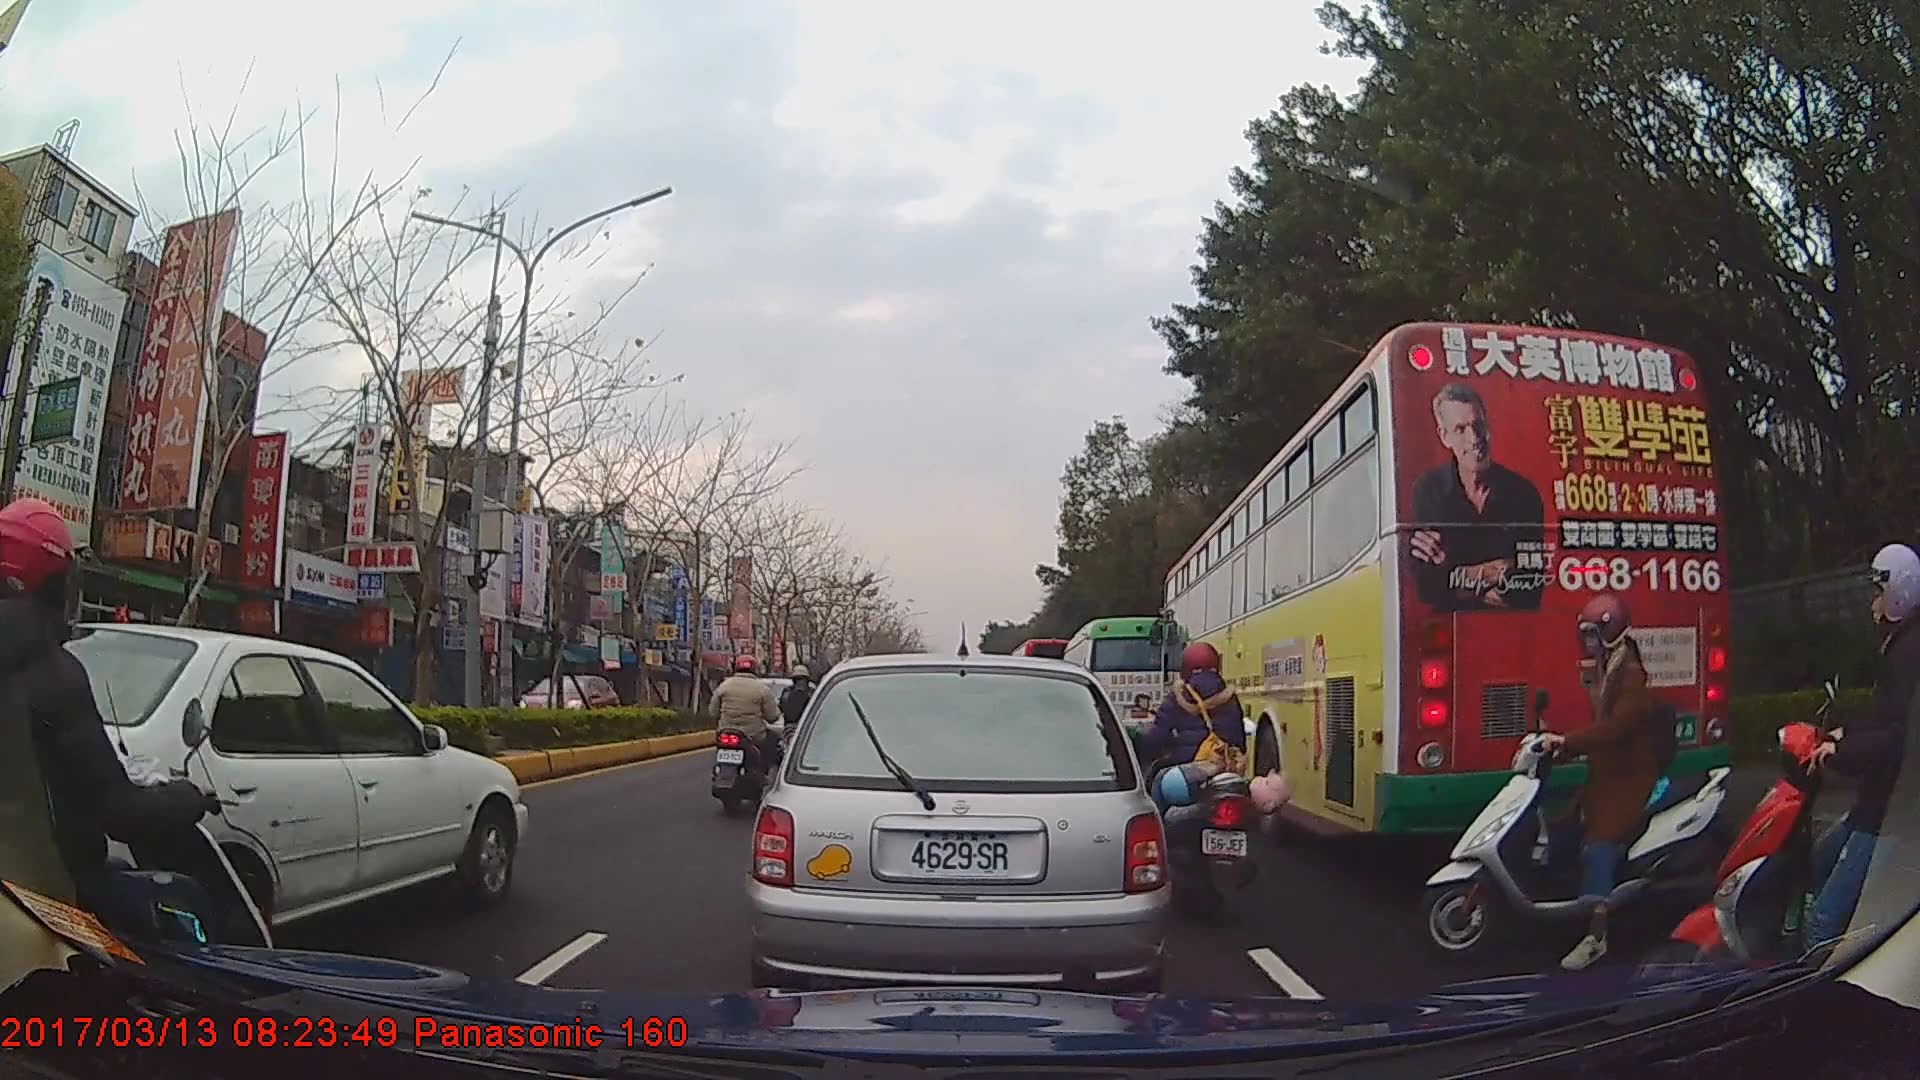rider: (1, 506, 286, 1041), (1412, 592, 1736, 969), (1672, 542, 1919, 1005), (1132, 644, 1289, 926), (708, 654, 777, 817), (779, 666, 826, 764)
vehicle: (1159, 319, 1731, 846), (0, 611, 527, 954), (744, 653, 1171, 996), (1060, 615, 1169, 757), (516, 671, 619, 734)
